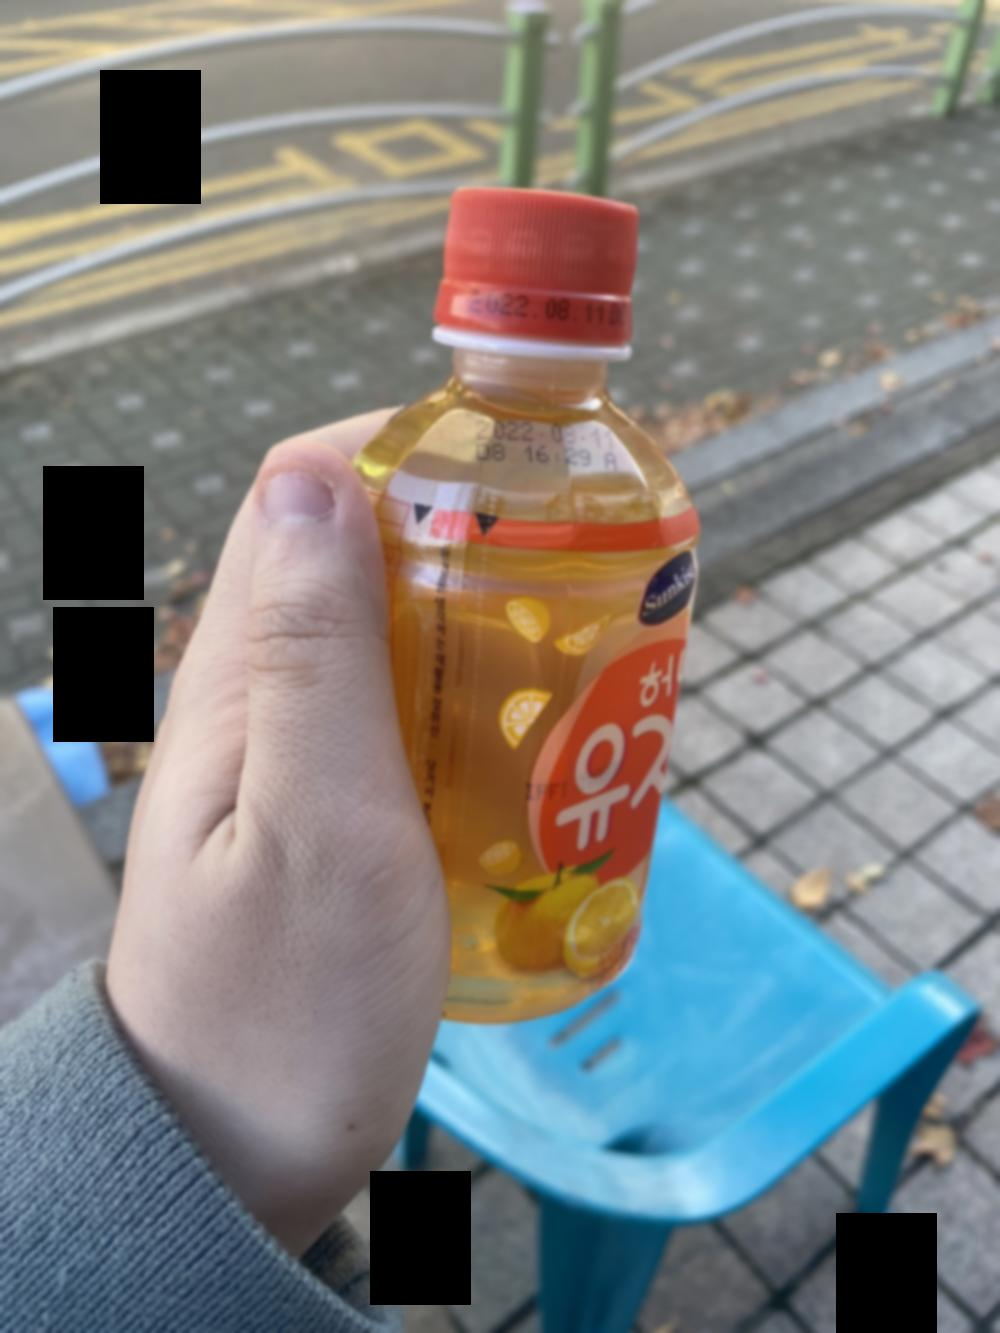honeyyuja: (371, 178, 704, 1029)
